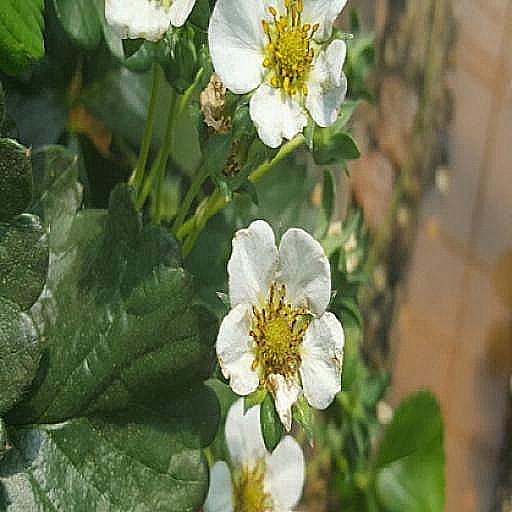Blossom Blight: (197, 279, 270, 392), (190, 0, 254, 105)
